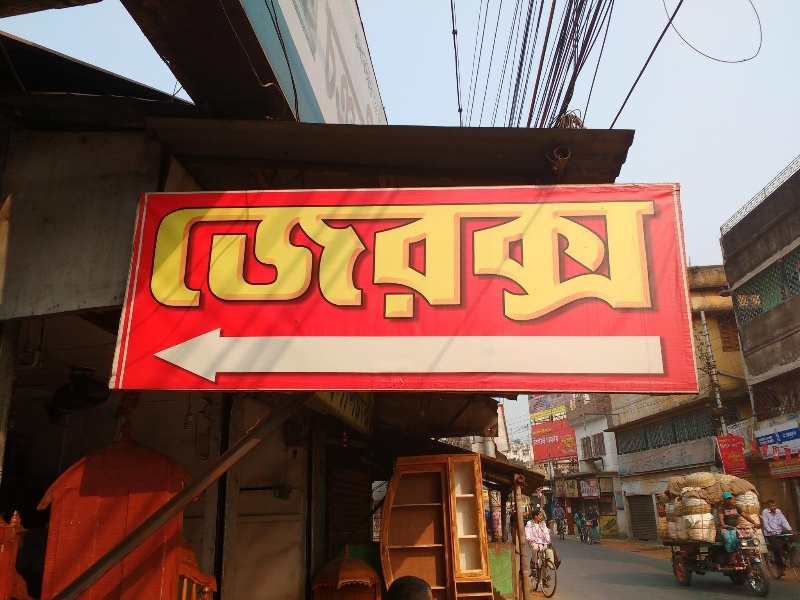text: (161, 200, 176, 329), (177, 200, 192, 329), (193, 200, 208, 329), (209, 200, 224, 329), (225, 200, 240, 329), (241, 200, 256, 329), (257, 200, 272, 329), (273, 200, 288, 329), (289, 200, 304, 329), (305, 200, 320, 329), (321, 200, 336, 329), (337, 200, 352, 329), (353, 200, 368, 329), (369, 200, 384, 329), (385, 200, 400, 329), (401, 200, 416, 329), (417, 200, 432, 329), (433, 200, 448, 329), (449, 200, 464, 329), (465, 200, 480, 329), (481, 200, 496, 329), (497, 200, 512, 329), (513, 200, 528, 329), (529, 200, 544, 329), (545, 200, 560, 329), (561, 200, 576, 329), (577, 200, 592, 329), (593, 200, 608, 329), (609, 200, 624, 329), (625, 200, 640, 329), (641, 200, 656, 329), (657, 200, 667, 329), (721, 409, 736, 488), (737, 409, 752, 488), (753, 409, 768, 488), (769, 409, 784, 488), (785, 409, 799, 488), (529, 412, 544, 466), (545, 412, 560, 466), (561, 412, 576, 466), (711, 409, 720, 488), (577, 412, 585, 466), (561, 474, 576, 499), (577, 474, 592, 499), (546, 474, 560, 499), (525, 412, 528, 466), (593, 474, 597, 499)
